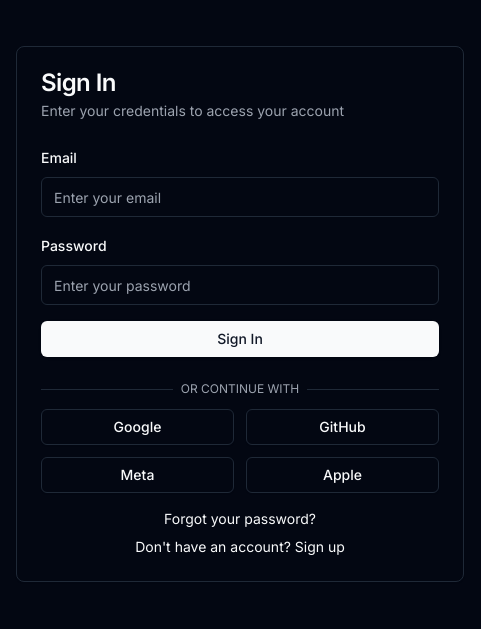
Scenario: LoginForm › should display error message when login fails
Note: Fill and submit form
Type "test@example.com" into the field with placeholder "Enter your email" at (240, 197), box left=41, top=177, right=439, bottom=217
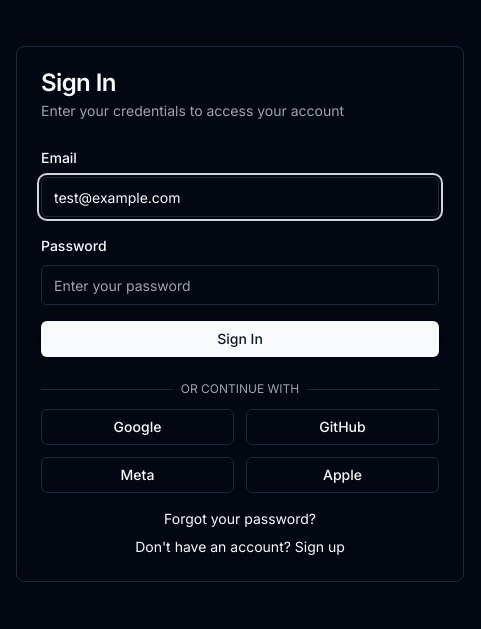
Type "wrongpassword" into the password field with placeholder "Enter your password" at (240, 285), box left=41, top=265, right=439, bottom=305
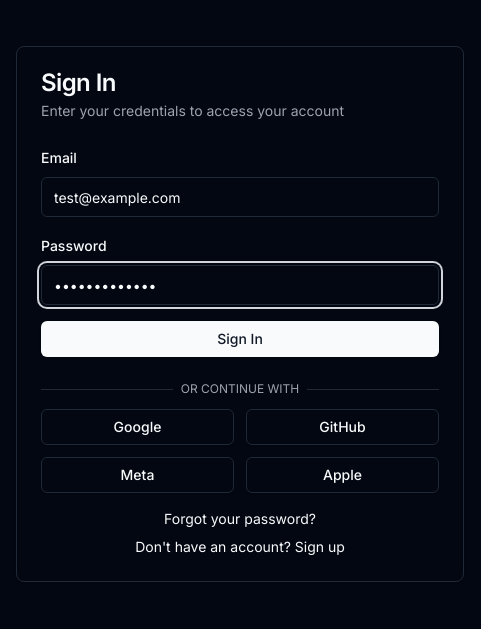
Click the button "Sign In" at (240, 339), box left=41, top=321, right=439, bottom=357
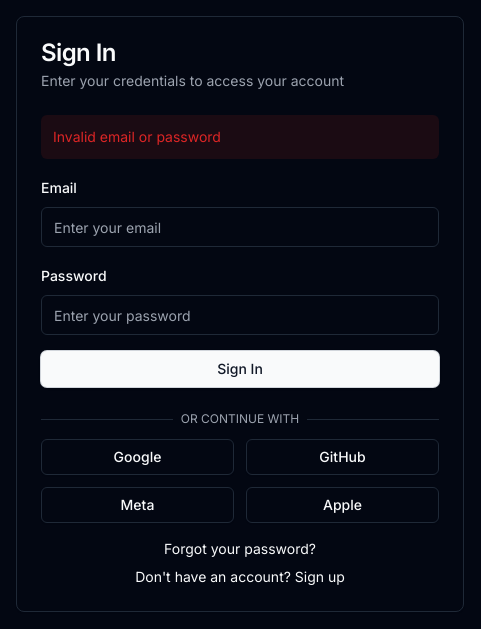
Check: the text "Invalid email or password" is shown, box left=41, top=115, right=439, bottom=159
